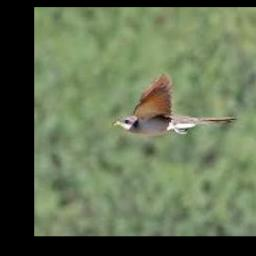Cuckoo: (113, 73, 236, 134)
